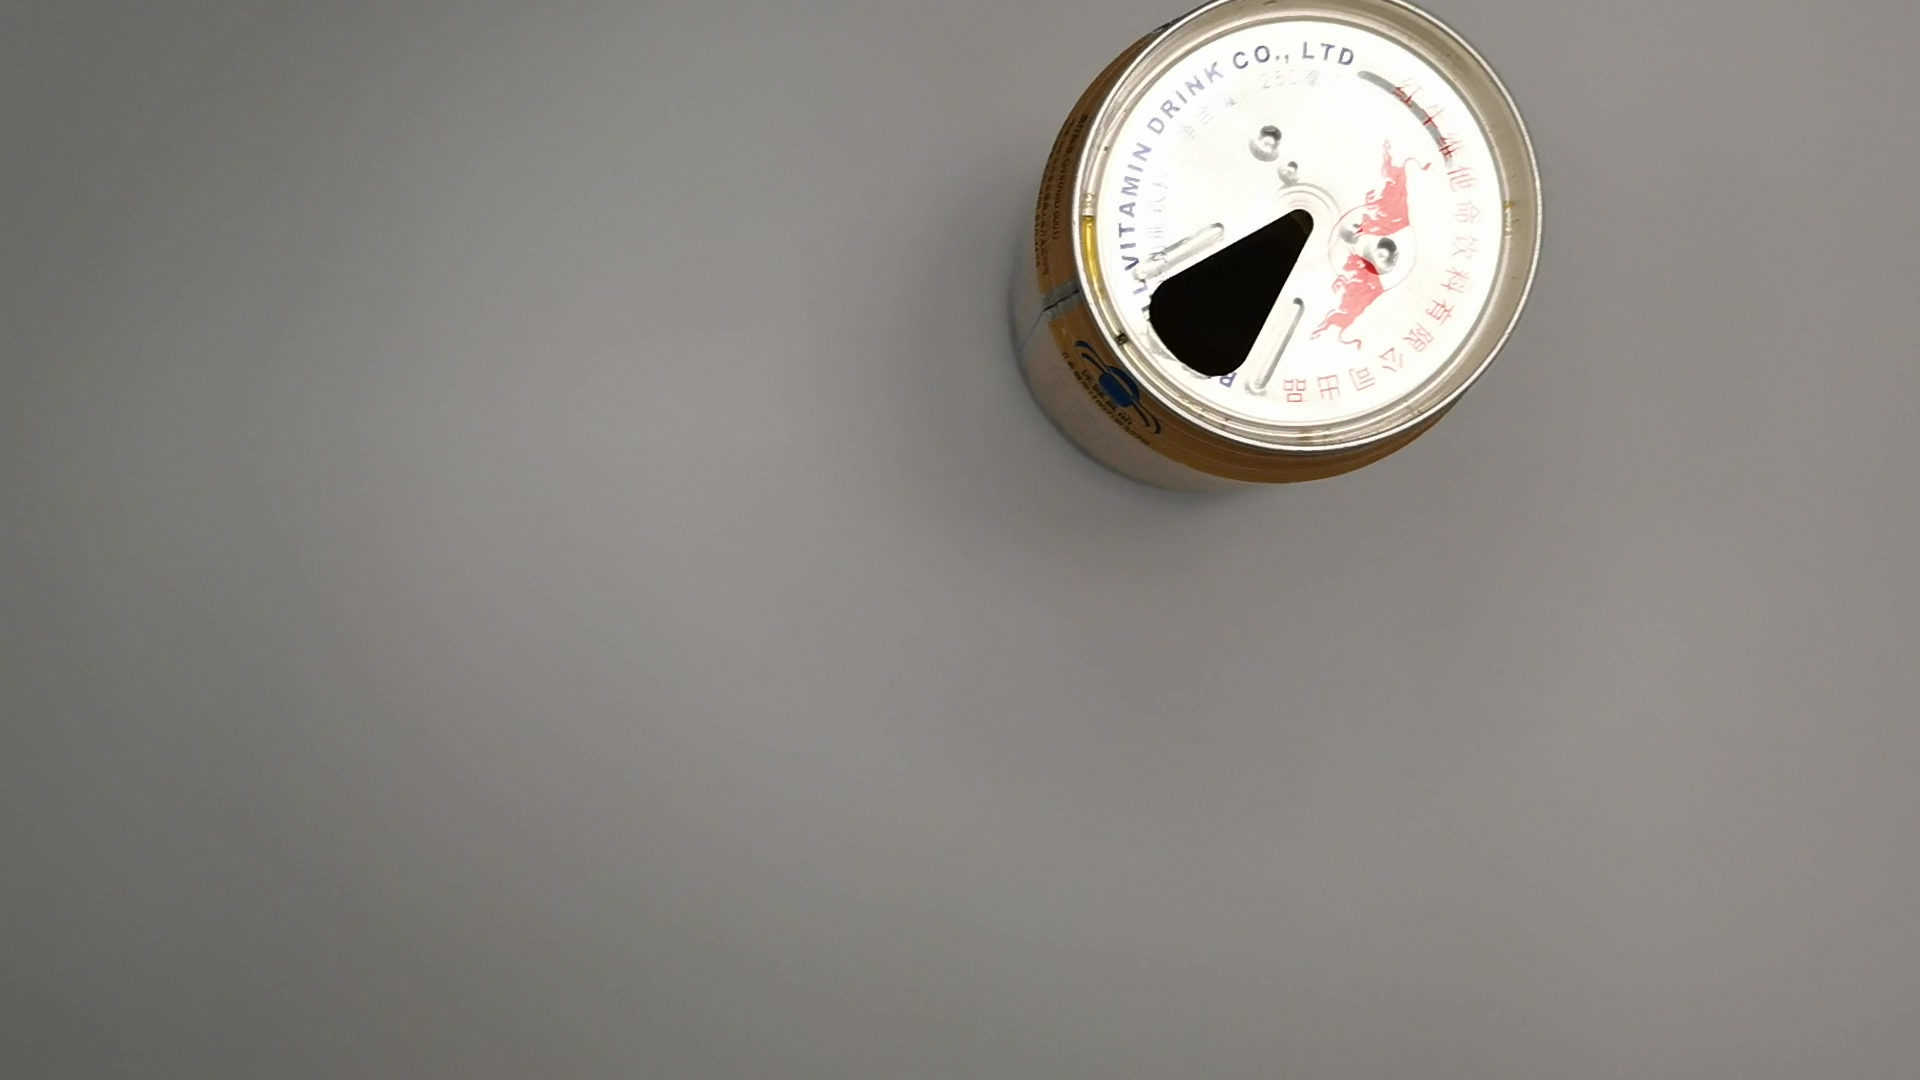can: (1000, 1, 1567, 504)
